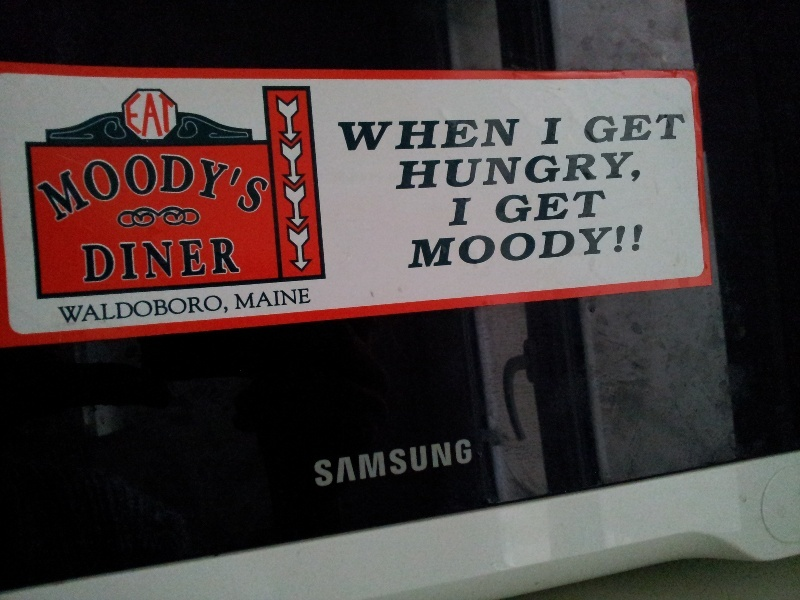text: (33, 152, 48, 222), (49, 152, 64, 222), (65, 152, 80, 222), (81, 152, 96, 222), (97, 152, 112, 222), (113, 152, 128, 222), (129, 152, 144, 222), (145, 152, 160, 222), (161, 152, 176, 222), (177, 152, 192, 222), (193, 152, 208, 222), (209, 152, 224, 222), (225, 152, 240, 222), (241, 152, 256, 222), (257, 152, 270, 222), (321, 439, 336, 488), (337, 439, 352, 488), (353, 439, 368, 488), (369, 439, 384, 488), (385, 439, 400, 488), (401, 439, 416, 488), (417, 439, 432, 488), (433, 439, 448, 488), (449, 439, 464, 488), (129, 92, 144, 138), (145, 92, 160, 138), (161, 92, 176, 138), (81, 237, 96, 283), (97, 237, 112, 283), (113, 237, 128, 283), (129, 237, 144, 283), (145, 237, 160, 283), (161, 237, 176, 283), (177, 237, 192, 283), (193, 237, 208, 283), (209, 237, 224, 283), (225, 237, 240, 283), (417, 224, 432, 269), (433, 224, 448, 269), (449, 224, 464, 269), (465, 224, 480, 269), (481, 224, 496, 269), (497, 224, 512, 269), (513, 224, 528, 269), (529, 224, 544, 269), (545, 224, 560, 269), (561, 224, 576, 269), (577, 224, 592, 269), (593, 224, 608, 269), (609, 224, 624, 269), (625, 224, 640, 269), (401, 151, 416, 190), (417, 151, 432, 190), (433, 151, 448, 190), (449, 151, 464, 190), (465, 151, 480, 190), (481, 151, 496, 190), (497, 151, 512, 190), (513, 151, 528, 190), (529, 151, 544, 190), (545, 151, 560, 190), (561, 151, 576, 190), (577, 151, 592, 190), (593, 151, 608, 190), (609, 151, 624, 190), (625, 151, 640, 190), (497, 190, 512, 224), (513, 190, 528, 224), (529, 190, 544, 224), (545, 190, 560, 224), (561, 190, 576, 224), (577, 190, 592, 224), (593, 190, 608, 224), (337, 119, 352, 152), (353, 119, 368, 152), (369, 119, 384, 152), (385, 119, 400, 152), (401, 119, 416, 152), (417, 119, 432, 152), (433, 119, 448, 152), (449, 119, 464, 152), (465, 119, 480, 152), (481, 119, 496, 152), (497, 119, 512, 152), (65, 294, 80, 325), (81, 294, 96, 325), (97, 294, 112, 325), (113, 294, 128, 325), (129, 294, 144, 325), (145, 294, 160, 325), (161, 294, 176, 325), (177, 294, 192, 325), (193, 294, 208, 325), (209, 294, 224, 325), (593, 114, 608, 144), (609, 114, 624, 144), (625, 114, 640, 144), (641, 114, 656, 144), (657, 114, 672, 144), (465, 439, 474, 488), (545, 117, 560, 146), (673, 114, 687, 144), (452, 196, 464, 227), (313, 439, 320, 488), (241, 288, 256, 310), (257, 288, 272, 310), (273, 288, 288, 310), (289, 288, 304, 310), (225, 294, 234, 325), (513, 119, 521, 152), (56, 294, 64, 325), (411, 224, 416, 269), (465, 196, 472, 227), (585, 114, 592, 144), (124, 92, 128, 138), (305, 288, 312, 310), (234, 288, 240, 310), (641, 224, 643, 269), (641, 151, 643, 190), (561, 117, 563, 146)
